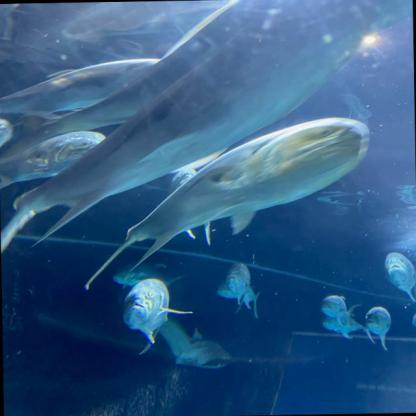fish: (0, 36, 357, 292), (82, 116, 371, 290), (0, 32, 165, 130), (0, 130, 107, 194), (124, 277, 194, 354), (384, 251, 416, 303), (219, 282, 260, 316), (114, 264, 168, 285), (323, 314, 363, 342), (365, 306, 390, 349), (227, 260, 250, 302), (321, 295, 358, 321), (0, 117, 12, 157), (410, 310, 416, 332)
shark: (175, 327, 231, 370)
